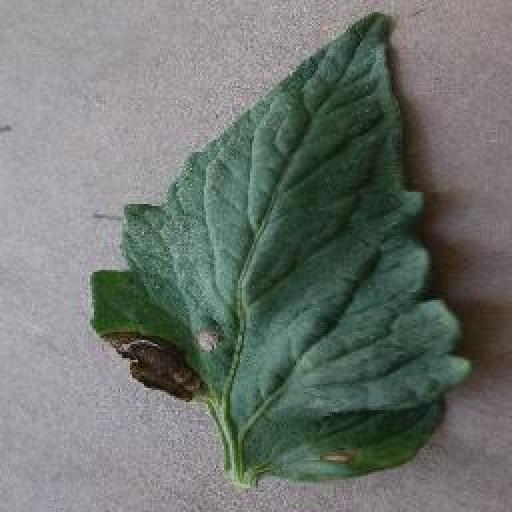Early Blight: (90, 9, 471, 492)
